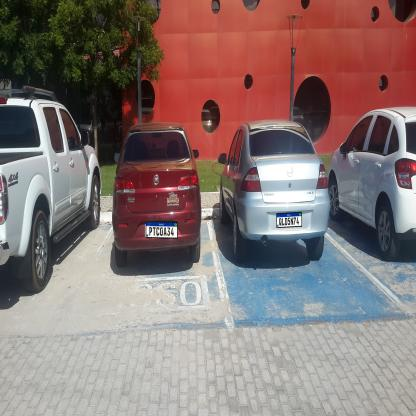PlacaM: (146, 222, 178, 238), (276, 212, 302, 228)
